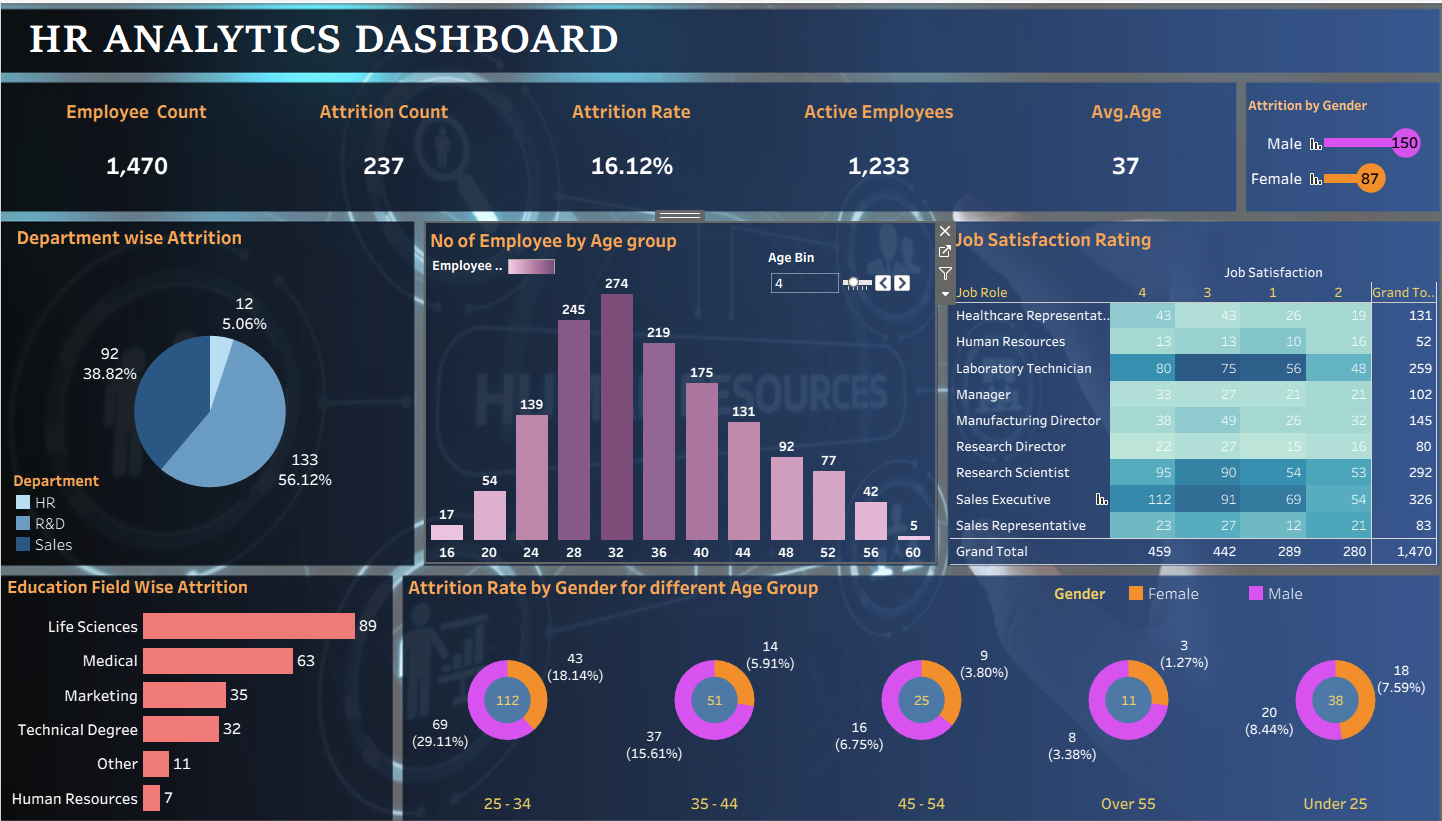

Layout of this report page (visuals, bound fields, positions):
{"tool":"tableau","page":{"name":"Dashboard 1","canvas":[1000,1000],"units":"permille","ordinal":0},"visuals":[{"type":"worksheet","title":"Sheet 8","mark":"Automatic","box":[15.9,22.3,441.4,77.5]},{"type":"worksheet","title":"KPI","mark":"Automatic","box":[8.3,96.2,853.1,144.4]},{"type":"worksheet","title":"Sheet 2","mark":"Automatic","rows":["Gender"],"cols":["Calculation_1601727162732546","Calculation_1601727162732546"],"box":[857.2,106.8,124.8,122.1]},{"type":"worksheet","title":"PIE CHART","mark":"Pie","box":[0,257,288.3,402.6]},{"type":"worksheet","title":"Sheet 6","mark":"Square","rows":["Job Role"],"cols":["Job Satisfaction"],"box":[654.5,259.4,335.9,402.6]},{"type":"worksheet","title":"EMP/AGE","mark":"Automatic","rows":["Calculation_1601727161761792"],"cols":["Age (bin)"],"box":[293.1,260.6,351,397.9]},{"type":"parameter","param":"[Parameters].[Parameter 1]","box":[529,289.9,100,61]},{"type":"legend","title":"EMP/AGE","param":"[federated.07kg2hh0eaz4j414rmgts1sgyar5].[sum:Employee Count:qk]","box":[297.2,298.1,87.6,22.3]},{"type":"legend","title":"PIE CHART","param":"[federated.07kg2hh0eaz4j414rmgts1sgyar5].[none:Department:nk]","box":[8.3,550.5,75.9,104.5]},{"type":"worksheet","title":"Sheet 7","mark":"Pie","rows":["Calculation_0325194521366533","Calculation_0325194521391111"],"cols":["CF_age band"],"box":[277.9,667.8,713.8,287.6]},{"type":"worksheet","title":"ED /ATTRI","mark":"Automatic","rows":["Education Field"],"cols":["Calculation_1601727162732546"],"box":[1.4,669,269,286.4]},{"type":"legend","title":"Sheet 7","param":"[federated.07kg2hh0eaz4j414rmgts1sgyar5].[none:Gender:nk]","box":[726.2,683.1,234.5,34]}]}

Visuals, with their boxes on the dashboard's canvas, which has no fixed pixel size, in thousandths of its width and height (x1, y1, x2, y2). These are canvas units, not pixel positions in the 1442x821 screenshot, which may show the page scaled, cropped or inside an application window:
"Sheet 8" worksheet: select_region(16, 22, 457, 100)
"KPI" worksheet: select_region(8, 96, 861, 241)
"Sheet 2" worksheet: select_region(857, 107, 982, 229)
"PIE CHART" worksheet (Pie marks): select_region(0, 257, 288, 660)
"Sheet 6" worksheet (Square marks): select_region(654, 259, 990, 662)
"EMP/AGE" worksheet: select_region(293, 261, 644, 658)
parameter: select_region(529, 290, 629, 351)
"EMP/AGE" legend: select_region(297, 298, 385, 320)
"PIE CHART" legend: select_region(8, 550, 84, 655)
"Sheet 7" worksheet (Pie marks): select_region(278, 668, 992, 955)
"ED /ATTRI" worksheet: select_region(1, 669, 270, 955)
"Sheet 7" legend: select_region(726, 683, 961, 717)
